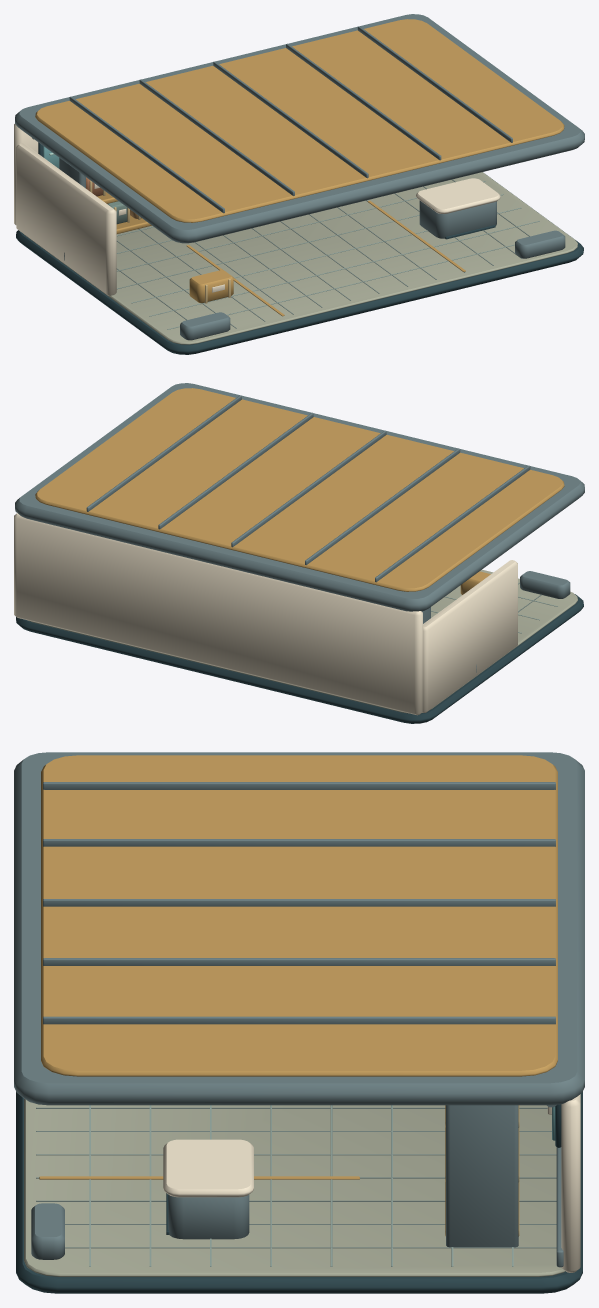
The model's file is warehouse.glb.
3 views of the same model, one above another, from view 1: azimuth 30°, elevation 25°; view 2: azimuth 150°, elevation 25°; view 3: azimuth 270°, elevation 25° (orthographic). The views are drawn at different scales.
Parts seen in each view (by area): view 1: Roof, Room; view 2: Roof, Room; view 3: Roof, Room.
Part boxes in pixels (x1=…): Roof: x1=15, y1=14, x2=584, y2=243; Room: x1=14, y1=124, x2=583, y2=354; Roof: x1=15, y1=383, x2=584, y2=611; Room: x1=14, y1=513, x2=583, y2=723; Roof: x1=14, y1=752, x2=584, y2=1105; Room: x1=16, y1=1092, x2=582, y2=1293.
Bounding box in the file's own units: 11.5 × 3.48 × 8.18.
